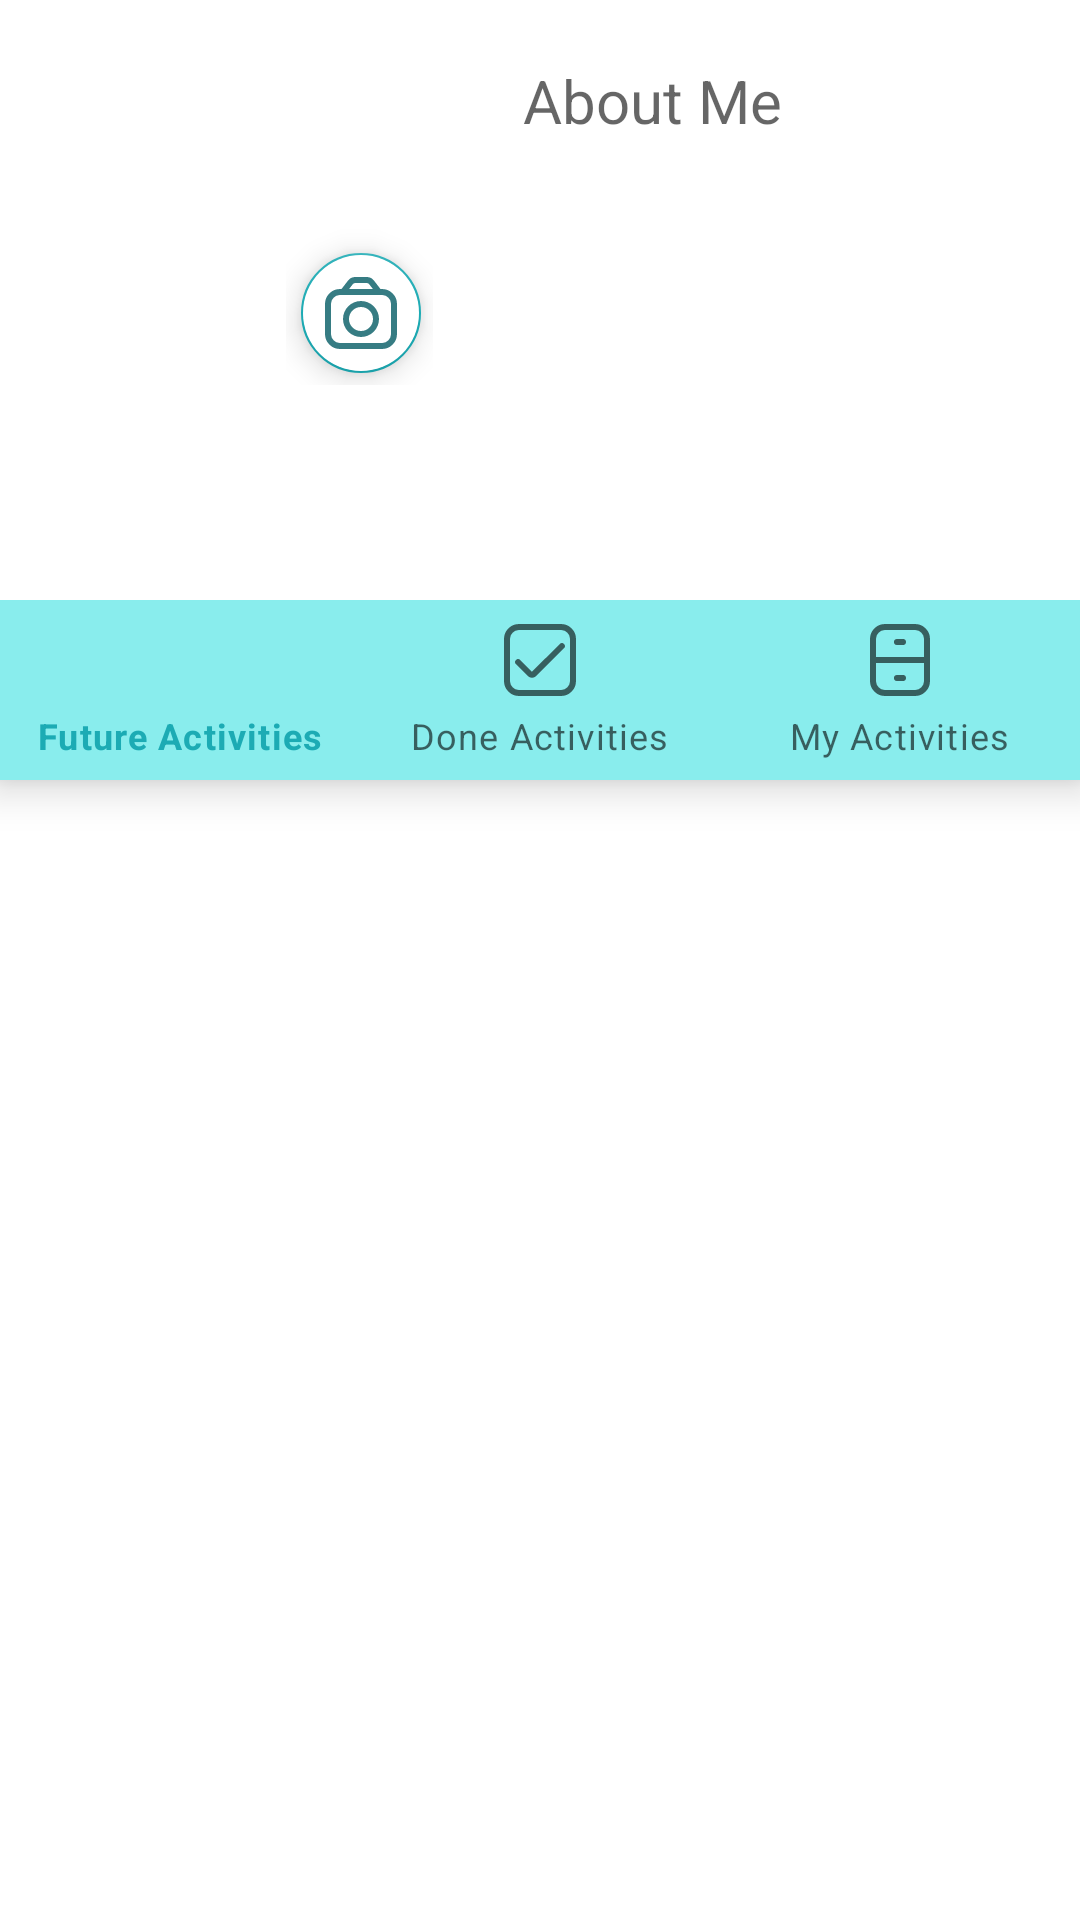

Where to tap for icons on this 1080px x 1920px app screen, as (x=x, y=y):
camera: (x=360, y=313)
